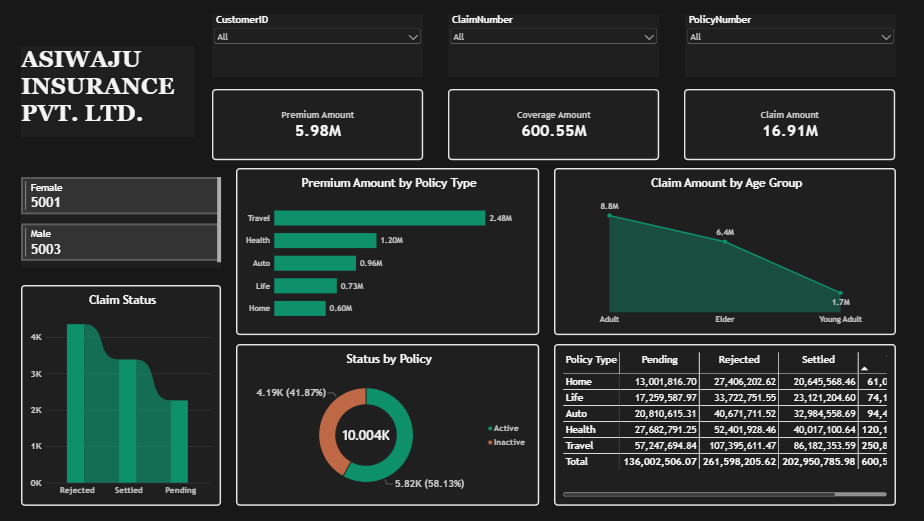

Layout of this report page (visuals, bound fields, positions):
{"tool":"powerbi","page":{"name":"Overview","canvas":[1920,1080],"ordinal":0},"visuals":[{"type":"cardVisual","fields":{"Data":["Sum(InsuranceData (1).PremiumAmount)"]},"box":[445.9,187.9,435.6,146.6],"z":0},{"type":"slicer","fields":{"Values":["InsuranceData (1).CustomerID"]},"box":[445.9,33.7,435.6,130.1],"z":1000},{"type":"textbox","box":[51.6,99.1,357.2,187.9],"z":2000},{"type":"slicer","fields":{"Values":["InsuranceData (1).ClaimNumber"]},"box":[934.2,33.7,435.6,130.1],"z":3000},{"type":"slicer","fields":{"Values":["InsuranceData (1).PolicyNumber"]},"box":[1422.5,33.7,435.6,130.1],"z":4000},{"type":"ribbonChart","title":" Claim Status","fields":{"Category":["InsuranceData (1).ClaimStatus"],"Y":["CountNonNull(InsuranceData (1).ClaimStatus)"]},"box":[51.6,592.5,412.9,456.3],"z":5000},{"type":"multiRowCard","fields":{"Values":["InsuranceData (1).Gender","CountNonNull(InsuranceData (1).Gender)"]},"box":[51.6,369.5,412.9,187.9],"z":6000},{"type":"cardVisual","fields":{"Data":["Sum(InsuranceData (1).ClaimAmount)"]},"box":[1420.4,187.9,435.6,146.6],"z":7000},{"type":"cardVisual","fields":{"Data":["Sum(InsuranceData (1).CoverageAmount)"]},"box":[933.2,187.9,435.6,146.6],"z":8000},{"type":"barChart","title":"Premium Amount by Policy Type","fields":{"Category":["InsuranceData (1).PolicyType"],"Y":["Sum(InsuranceData (1).PremiumAmount)"]},"box":[495.5,351,625.5,344.8],"z":9000},{"type":"lineChart","title":"Claim Amount by Age Group","fields":{"Category":["InsuranceData (1).Age Group"],"Y":["Sum(InsuranceData (1).ClaimAmount)"]},"box":[1152,351,706.1,344.8],"z":10000},{"type":"donutChart","fields":{"Category":["InsuranceData (1).Policy bStatus"],"Y":["CountNonNull(InsuranceData (1).Policy bStatus)"]},"box":[495,715,626,334],"z":11000},{"type":"pivotTable","fields":{"Columns":["InsuranceData (1).ClaimStatus"],"Rows":["InsuranceData (1).PolicyType"],"Values":["Sum(InsuranceData (1).CoverageAmount)"]},"box":[1152,714.3,706,334],"z":12000}]}

Visuals, with their boxes in screenshot pixels (x1, y1, x2, y2), scaled from the page's 1920x1080 canvas onto the 924x521 screenshot:
cardVisual - Sum(InsuranceData (1).PremiumAmount): 215,91,424,161
slicer - InsuranceData (1).CustomerID: 215,16,424,79
textbox: 25,48,197,138
slicer - InsuranceData (1).ClaimNumber: 450,16,659,79
slicer - InsuranceData (1).PolicyNumber: 685,16,894,79
" Claim Status" ribbonChart: 25,286,224,506
multiRowCard - InsuranceData (1).Gender x CountNonNull(InsuranceData (1).Gender): 25,178,224,269
cardVisual - Sum(InsuranceData (1).ClaimAmount): 684,91,893,161
cardVisual - Sum(InsuranceData (1).CoverageAmount): 449,91,659,161
"Premium Amount by Policy Type" barChart: 238,169,539,336
"Claim Amount by Age Group" lineChart: 554,169,894,336
donutChart - InsuranceData (1).Policy bStatus x CountNonNull(InsuranceData (1).Policy bStatus): 238,345,539,506
pivotTable - InsuranceData (1).ClaimStatus x InsuranceData (1).PolicyType: 554,345,894,506
